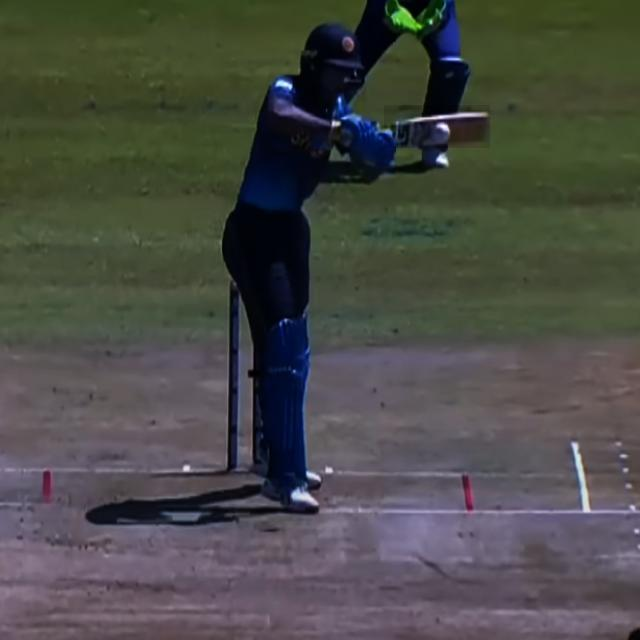bat: (396, 113, 492, 150)
toe: (480, 108, 492, 147)
